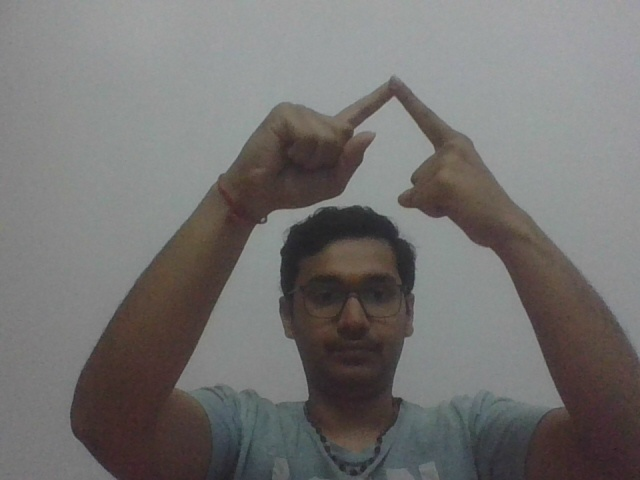E: (236, 75, 523, 216)
